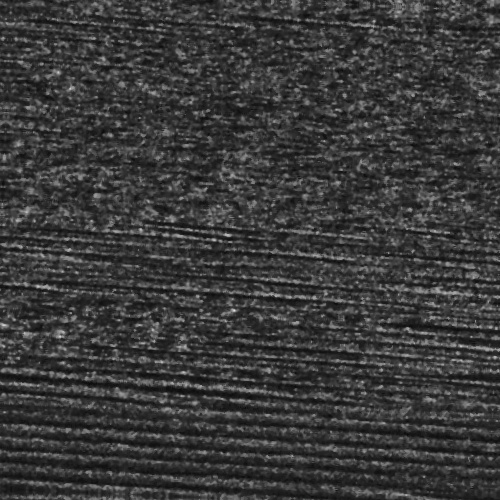shadow: (456, 360, 500, 369)
